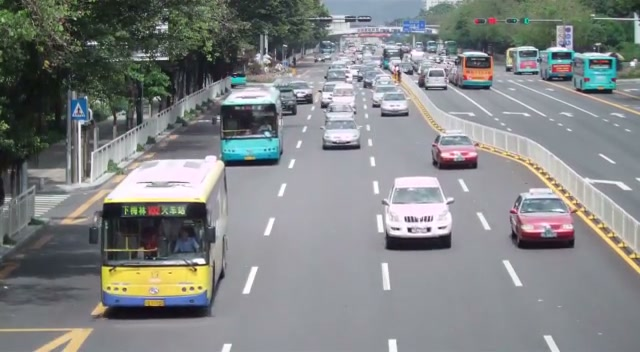bus: (96, 155, 229, 311), (219, 84, 283, 165), (571, 52, 618, 92), (451, 50, 494, 89), (538, 47, 574, 81), (505, 46, 539, 74)
car: (380, 176, 455, 249), (509, 189, 575, 249), (431, 133, 479, 170), (321, 118, 361, 150), (380, 93, 409, 117), (372, 83, 398, 107), (288, 80, 314, 103), (278, 86, 298, 115), (423, 68, 448, 91)
pedestrian: (173, 225, 200, 253)
truck: (572, 52, 618, 92), (538, 47, 573, 81), (506, 46, 539, 75)
